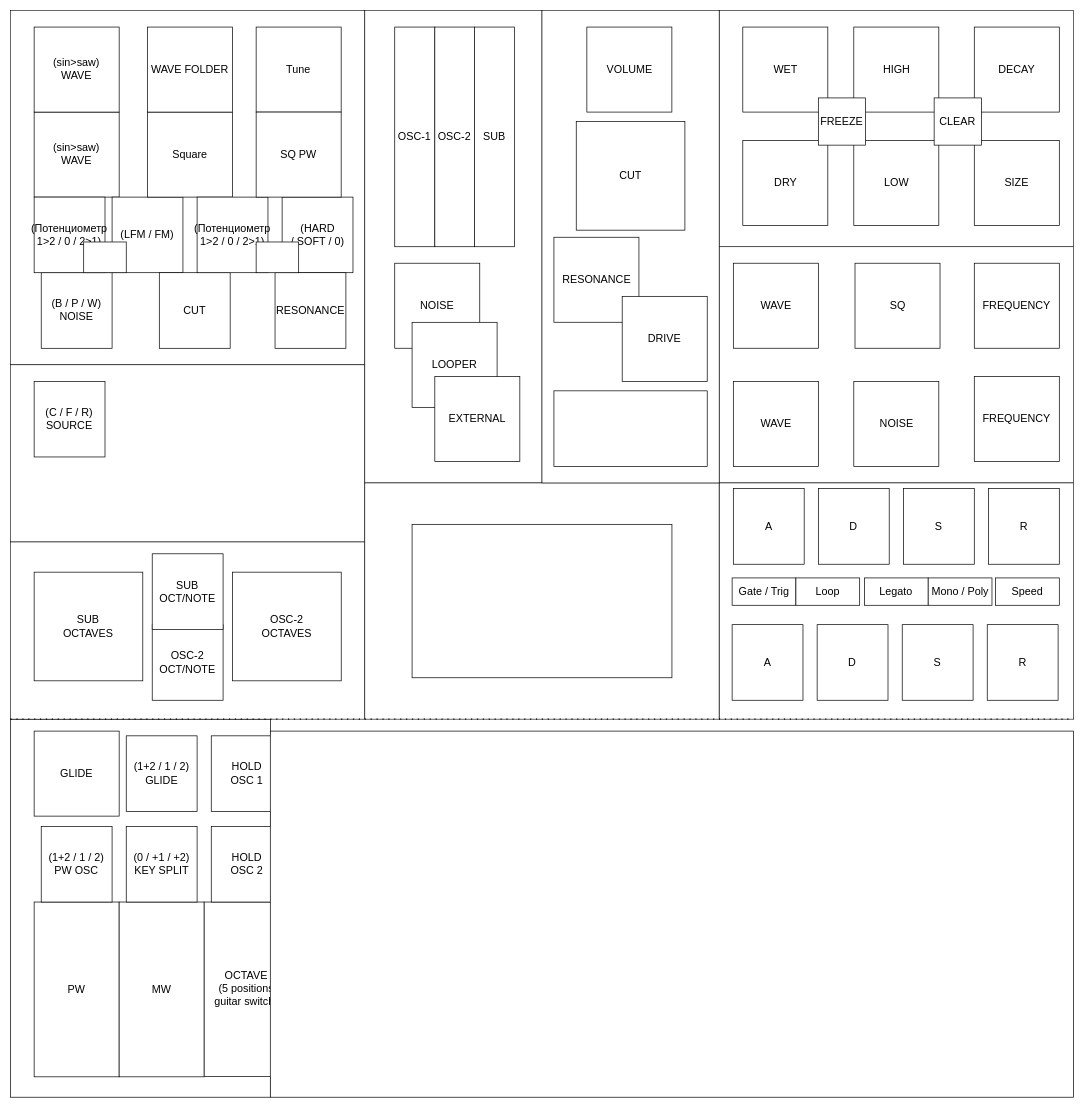
Some shapes in this 1085 by 1108 pixel diagram are drawn without their labels. The box of each missing label's shape, as (x1, y1, x2, y2) in pixels:
FM: (83, 241, 126, 273)
KEYS (УЗНАТЬ ТОЧНЫЙ РАЗМЕР): (270, 730, 1074, 1097)
LED (MOD MATRIX, OSC, LOOPER / SAMPLER): (411, 524, 672, 678)
MODE (5 positions guitar switch): (553, 390, 707, 466)
SYNC: (255, 241, 299, 273)
